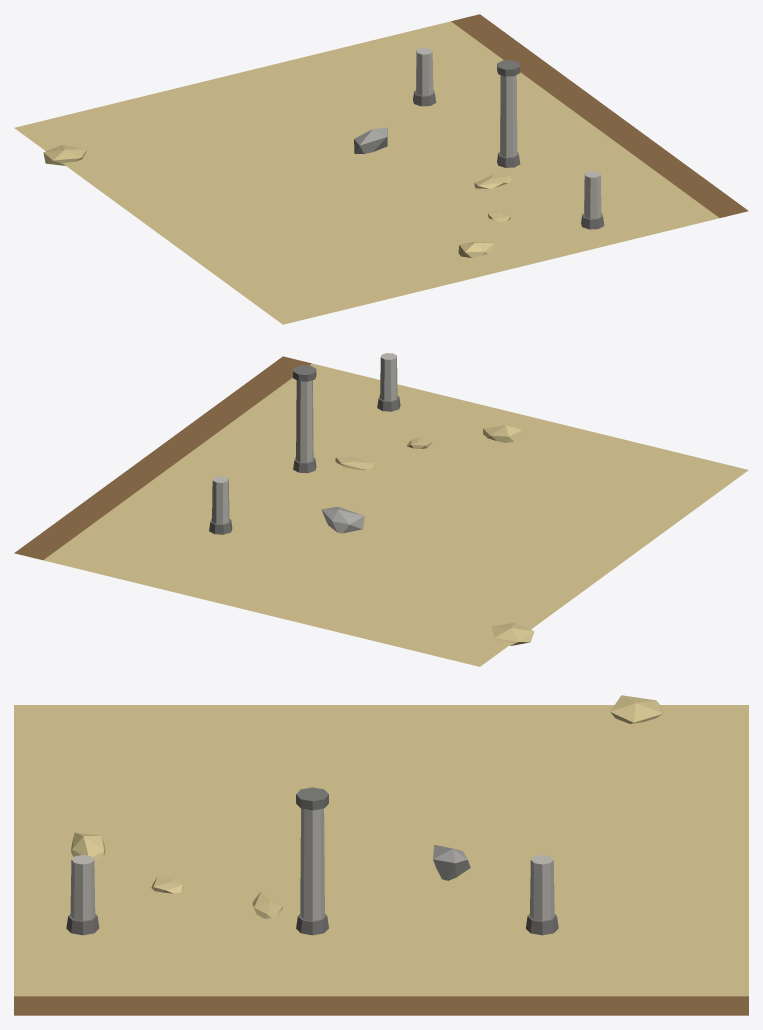
File: chunk_5_20.glb
3 renders of one model, top to bottom at view 1: azimuth 30°, elevation 25°; view 2: azimuth 150°, elevation 25°; view 3: azimuth 270°, elevation 25°, orthographic. The views are drawn at different scales.
Visible parts, largest first — view 1: chunk_5_20; view 2: chunk_5_20; view 3: chunk_5_20.
Part boxes in pixels (left/top/right/bottom): chunk_5_20: left=14, top=14, right=748, bottom=324; chunk_5_20: left=14, top=353, right=748, bottom=666; chunk_5_20: left=14, top=695, right=748, bottom=1015.
Size of the model in its own units: 16.33 by 3.6 by 16.
